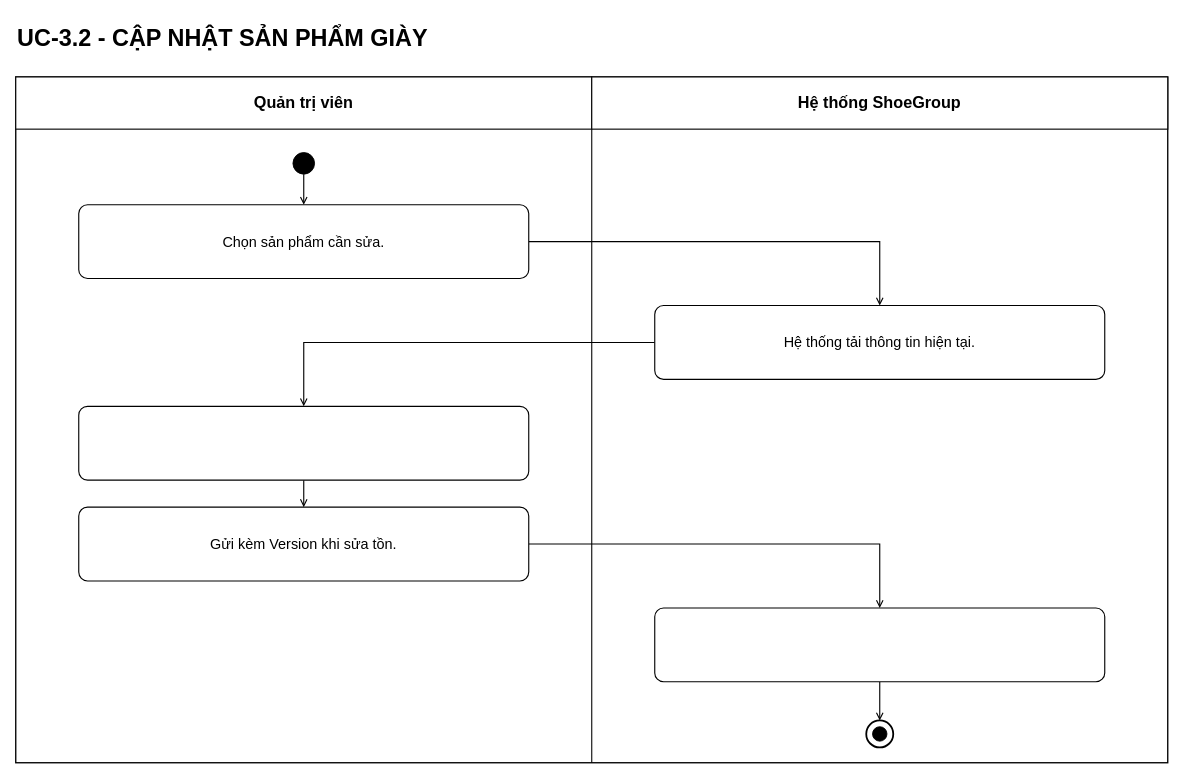
This 1184x779 diagram has some shape labels left out. Here are the shapes that lost their labels. From the top down, the box of each, then its label:
(78, 405, 529, 480): Cập nhật trường sản phẩm hoặc danh sách biến thể.
(654, 607, 1105, 682): Hệ thống kiểm tra xung đột và lưu thay đổi.
